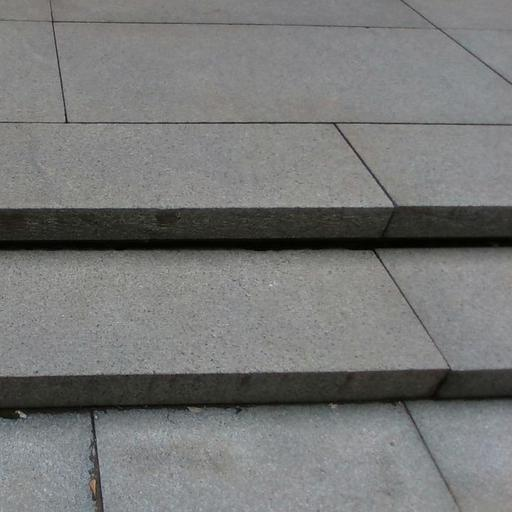stairs: (0, 0, 511, 407)
